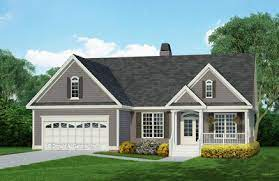Building House: (22, 44, 262, 154)
